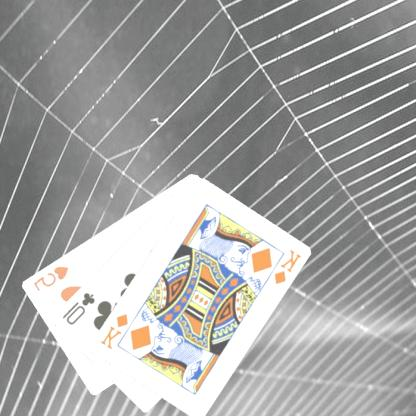10C: (61, 289, 98, 327)
5H: (32, 262, 72, 292)
KD: (99, 311, 131, 351), (272, 247, 304, 286)
